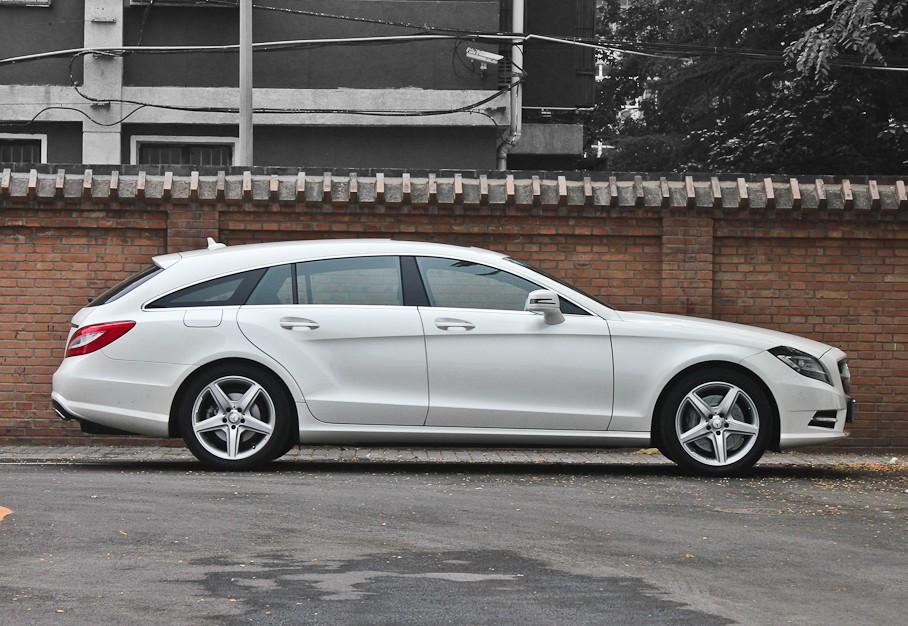Wagon: (47, 234, 857, 477)
